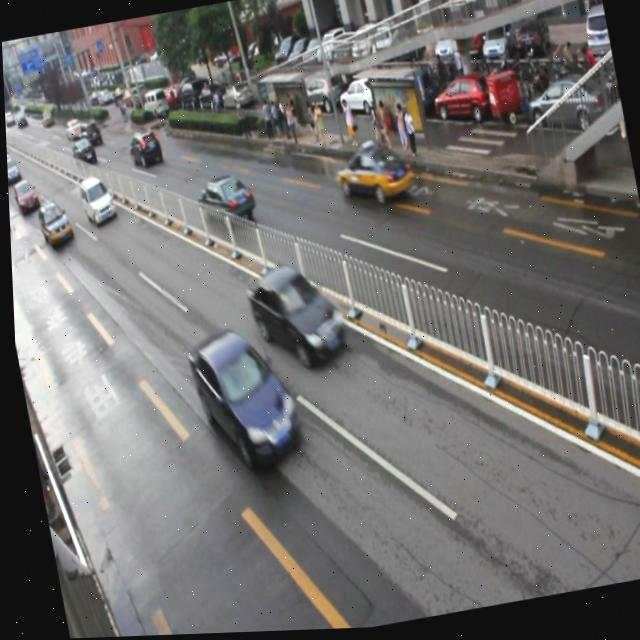car: (180, 321, 301, 476), (239, 256, 349, 379), (328, 135, 416, 216), (192, 171, 256, 229), (75, 173, 116, 228), (34, 198, 73, 249), (125, 128, 162, 170), (11, 177, 40, 214)
